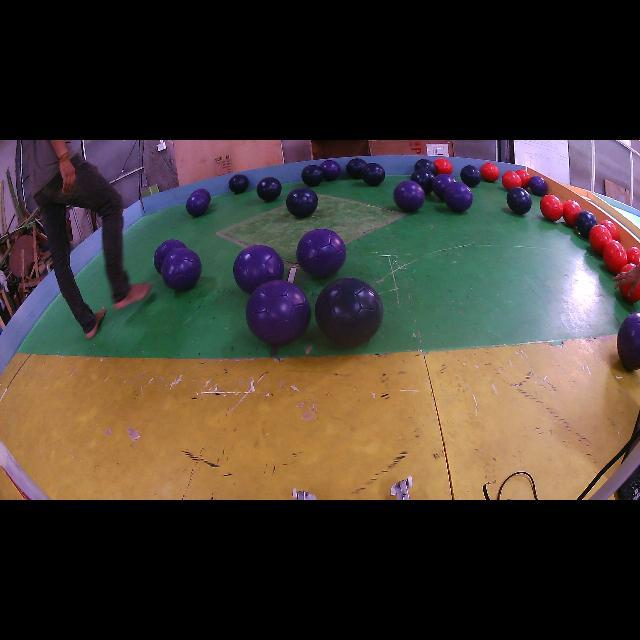B: (315, 278, 384, 346), (286, 188, 318, 218), (506, 186, 531, 215), (256, 176, 281, 201), (410, 168, 434, 194), (361, 162, 385, 186), (301, 165, 324, 188), (460, 165, 481, 188), (229, 174, 249, 194), (346, 159, 366, 179), (414, 159, 436, 175)
P: (245, 280, 311, 345), (296, 229, 346, 278), (234, 245, 284, 294), (161, 246, 201, 290), (618, 312, 640, 370), (154, 239, 186, 274), (394, 180, 425, 212), (444, 182, 472, 212), (576, 210, 598, 239), (431, 174, 456, 199), (186, 192, 209, 216), (320, 160, 341, 181), (529, 175, 548, 196), (192, 189, 211, 202)
R: (602, 240, 628, 274), (589, 225, 612, 255), (540, 195, 562, 221), (562, 200, 581, 226), (480, 162, 500, 182), (501, 171, 522, 190), (600, 220, 619, 240), (620, 284, 640, 302), (516, 169, 530, 189), (434, 159, 452, 174), (626, 246, 640, 264), (620, 262, 635, 272)
